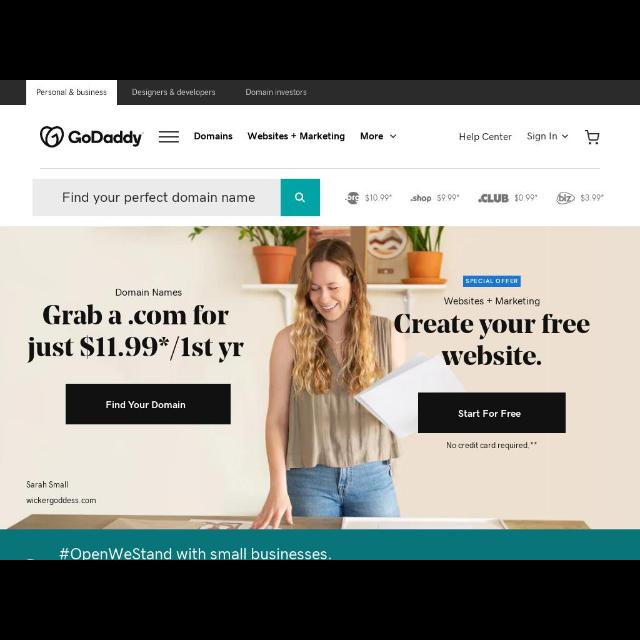backgroundimage: (1, 226, 640, 530)
button: (282, 179, 321, 217)
icon: (158, 130, 180, 144), (586, 130, 600, 146), (296, 192, 306, 202), (562, 134, 570, 138), (389, 134, 396, 138)
image: (39, 125, 144, 147), (479, 194, 509, 203), (556, 192, 576, 205), (410, 194, 432, 203), (344, 193, 360, 205)
input: (33, 180, 281, 217)
multitab: (195, 132, 570, 142), (36, 88, 308, 96)
spinner: (527, 132, 569, 142), (360, 132, 396, 142)
text: (27, 306, 245, 362), (395, 312, 591, 366), (59, 548, 331, 558), (62, 192, 256, 204), (248, 132, 344, 142), (444, 297, 540, 307), (446, 442, 538, 451), (132, 88, 216, 96), (106, 401, 186, 409), (458, 409, 520, 419), (459, 132, 513, 142), (116, 289, 182, 297), (246, 88, 308, 96), (36, 88, 106, 95), (27, 498, 97, 504), (466, 277, 518, 285), (26, 480, 68, 488), (526, 132, 558, 142), (194, 132, 232, 140), (514, 192, 538, 202), (366, 194, 392, 202), (580, 194, 604, 202), (361, 132, 384, 140), (438, 194, 460, 202)
textbutton: (66, 384, 230, 424), (418, 392, 566, 433)
